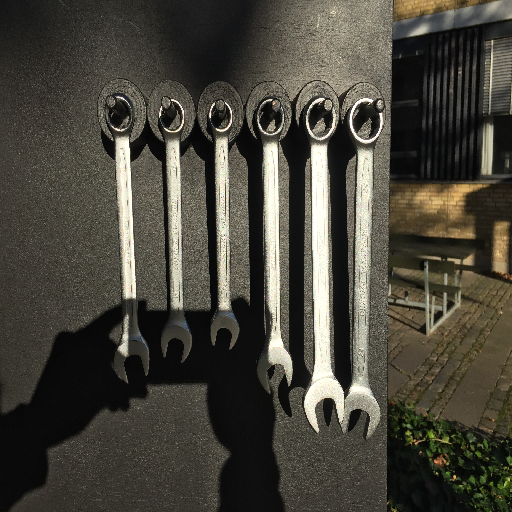bottom: (303, 373, 346, 434), (338, 382, 381, 441), (257, 343, 294, 395), (112, 335, 151, 383), (159, 318, 193, 362), (209, 307, 240, 351)
top: (346, 96, 386, 149), (302, 95, 338, 144), (103, 92, 137, 137), (253, 96, 286, 138), (156, 97, 187, 138), (206, 98, 236, 136)
